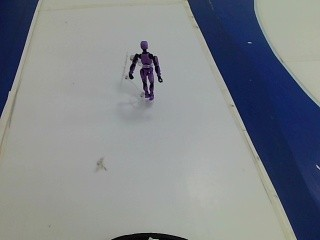pedestrian: (121, 36, 168, 108)
